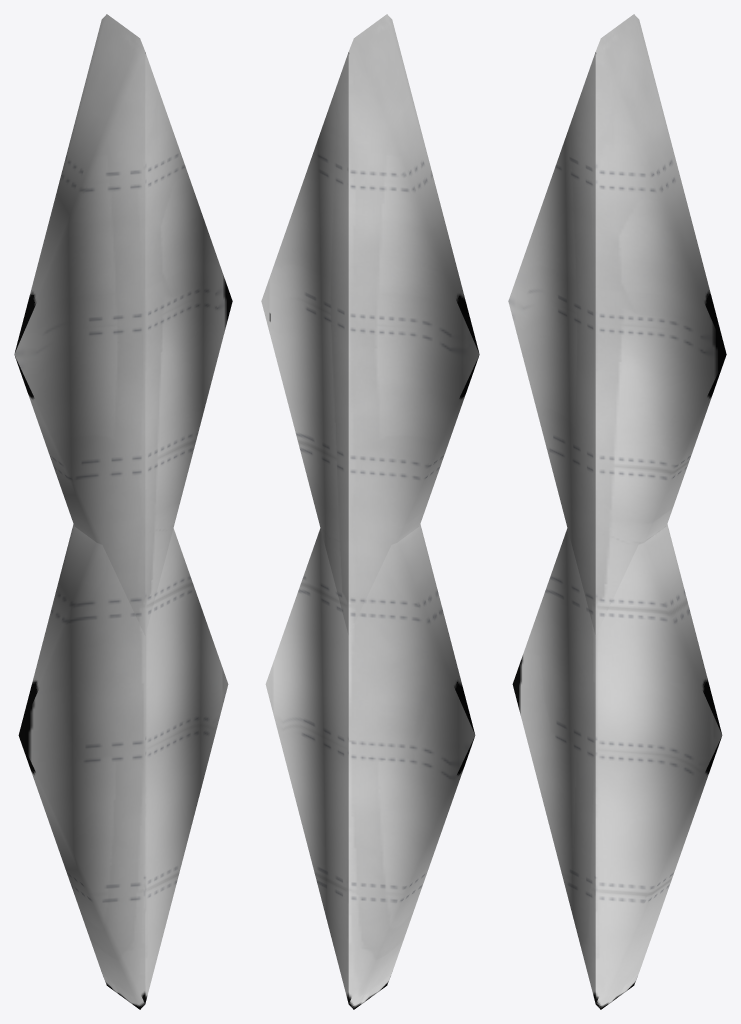
File: LeftUpperLeg_C2.fbx
The picture shows the model from 3 angles, left to right: view 1: azimuth 30°, elevation 25°; view 2: azimuth 150°, elevation 25°; view 3: azimuth 330°, elevation 25°; orthographic projection.
Visible parts, largest first — view 1: Civ_Jogging_LeftUpperLeg_C2; view 2: Civ_Jogging_LeftUpperLeg_C2; view 3: Civ_Jogging_LeftUpperLeg_C2.
Part boxes in pixels (bbox=[...]): Civ_Jogging_LeftUpperLeg_C2: bbox=[14, 14, 232, 1009]; Civ_Jogging_LeftUpperLeg_C2: bbox=[261, 14, 479, 1009]; Civ_Jogging_LeftUpperLeg_C2: bbox=[508, 14, 726, 1009].
Bounding box in the file's own units: 0.516 × 2.19 × 0.1786.
